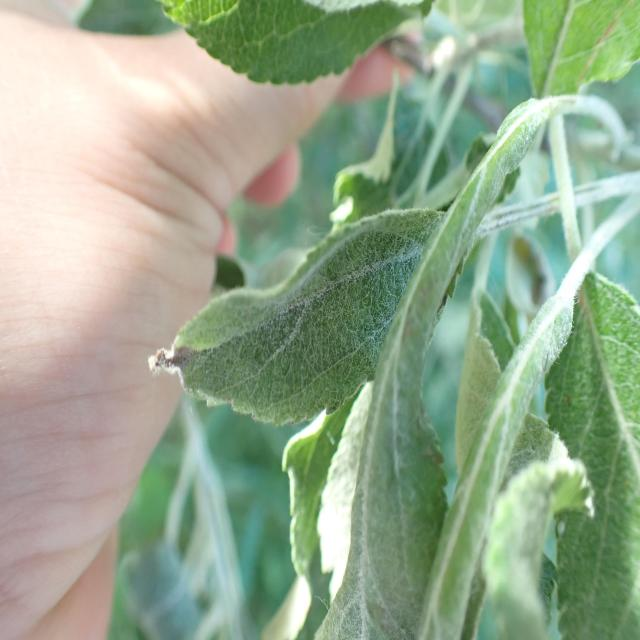Powdery_mildew: (324, 73, 559, 637), (152, 188, 568, 432), (423, 231, 593, 638), (532, 203, 640, 640)
